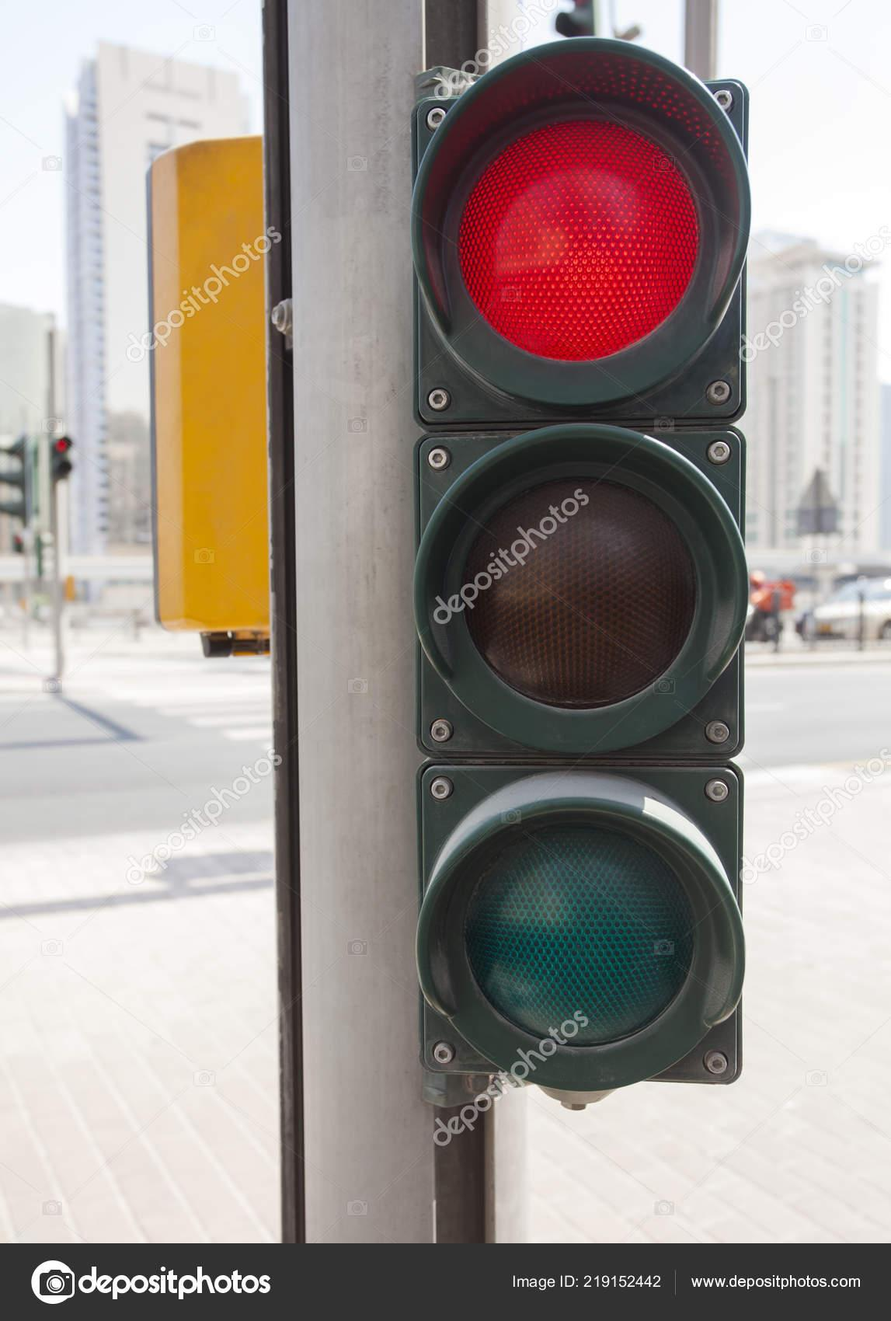red: (377, 0, 785, 1135)
